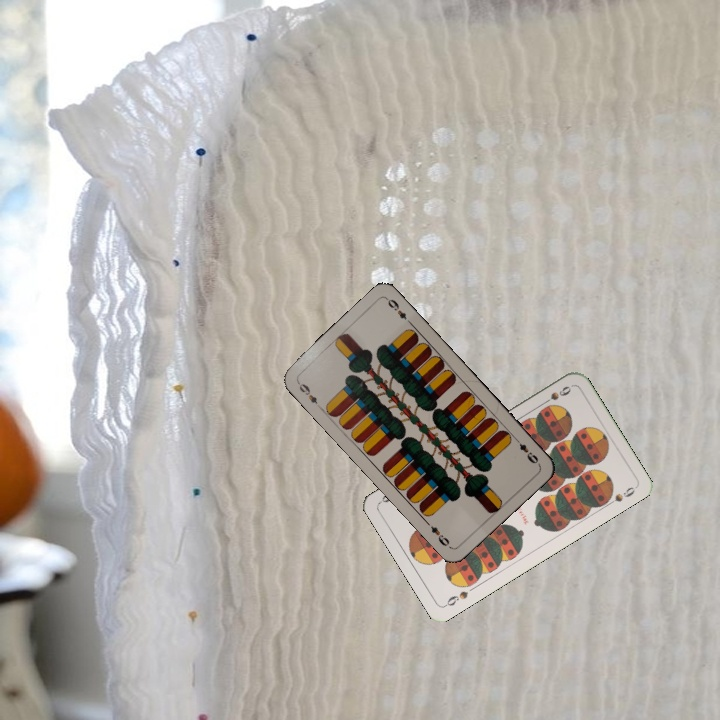E9: (510, 434, 542, 467), (293, 378, 324, 411)
S9: (537, 382, 573, 408), (441, 587, 471, 610)
